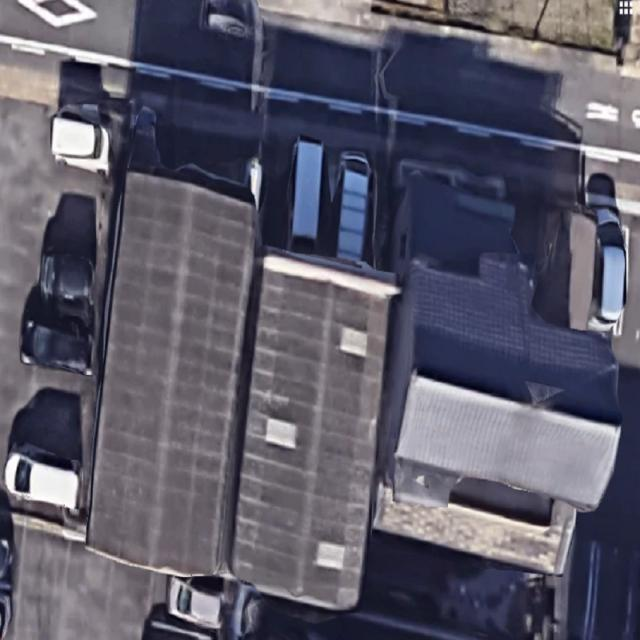Batiment: (375, 252, 620, 574), (88, 170, 255, 575), (232, 254, 398, 610)
